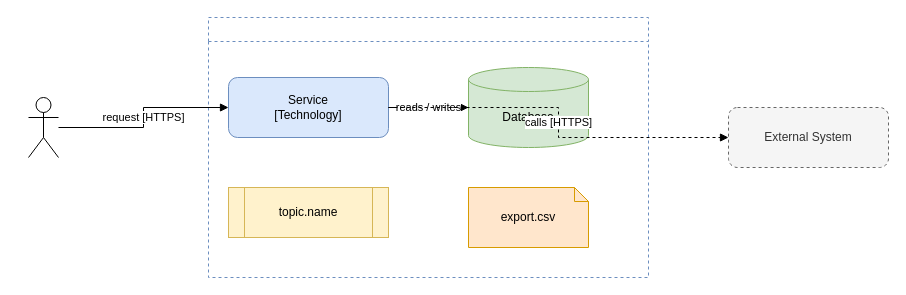
This 906x295 diagram has some shape labels left out. Here are the shapes that lost their labels. From the top down, the box of each, then its label:
(28, 96, 58, 158): Customer
(208, 16, 648, 278): System boundary
